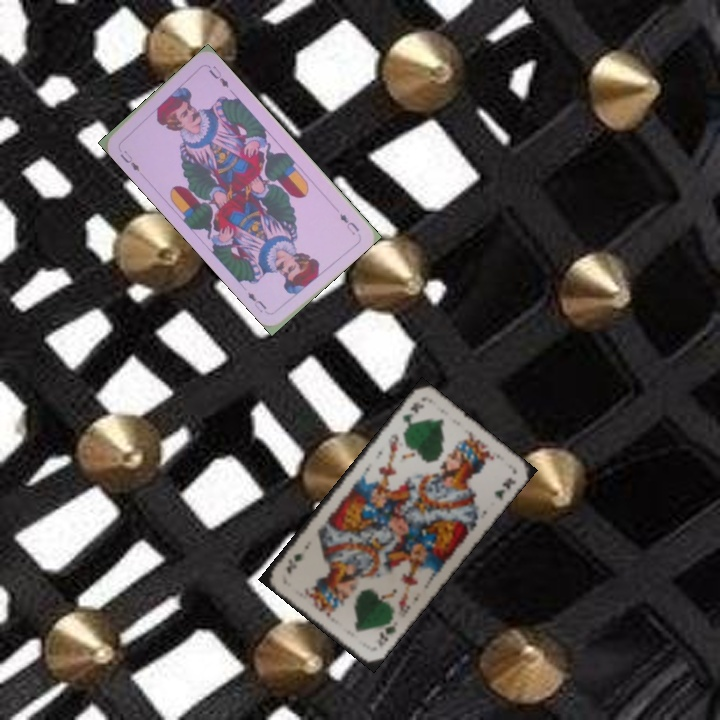EU: (335, 210, 362, 238), (116, 146, 142, 174)
GK: (398, 397, 427, 433), (373, 615, 400, 648)
